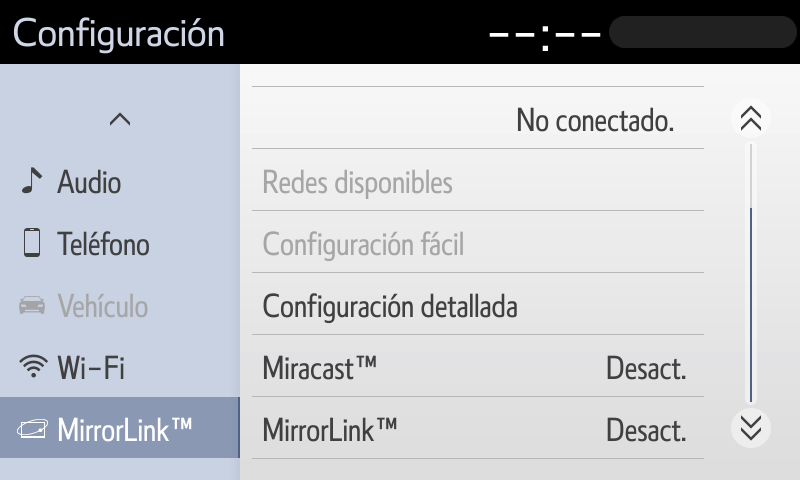touchPart: (243, 392, 718, 466), (249, 270, 711, 339), (246, 331, 708, 400), (249, 86, 710, 154), (13, 225, 166, 266), (18, 337, 137, 384), (18, 159, 142, 203), (732, 409, 776, 451), (102, 104, 139, 137), (735, 102, 764, 135)
untouchPart: (250, 142, 712, 220), (248, 202, 707, 279), (2, 394, 244, 459), (479, 12, 795, 54), (10, 10, 233, 54), (11, 284, 161, 324)
